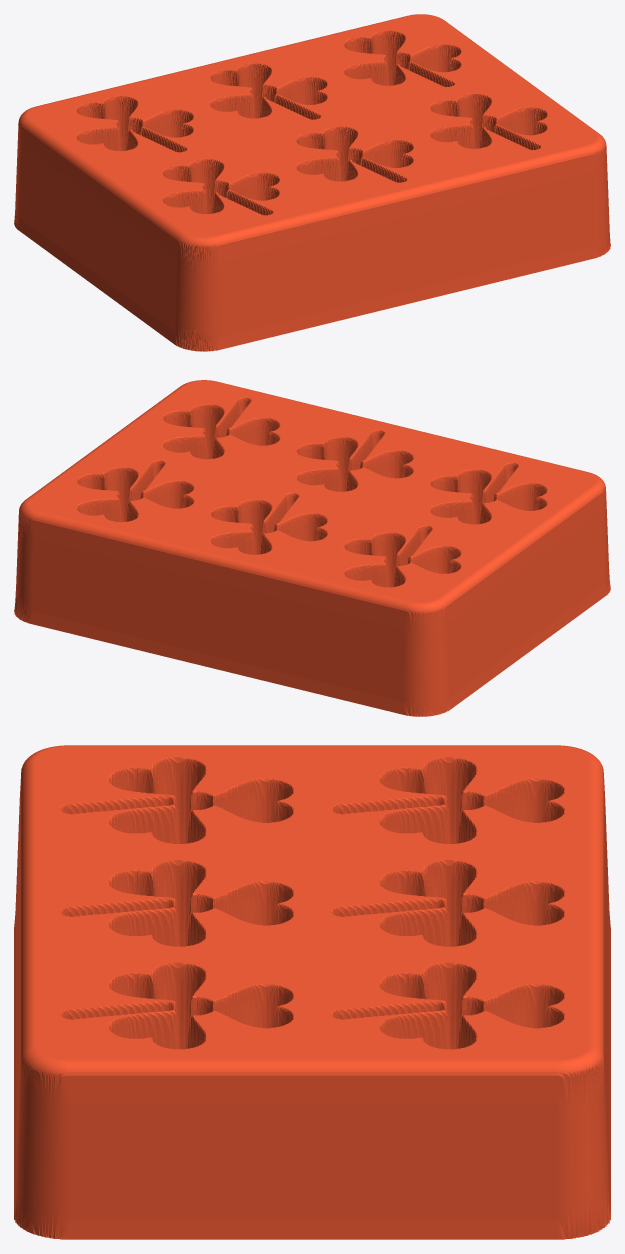
File: mold.glb
3 views of the same model, one above another, from view 1: azimuth 30°, elevation 25°; view 2: azimuth 150°, elevation 25°; view 3: azimuth 270°, elevation 25° (orthographic). The views are drawn at different scales.
Parts seen in each view (by area): view 1: geometry_0; view 2: geometry_0; view 3: geometry_0.
Boxes of the visible parts, <box> form: geometry_0: <box>14,14,610,351</box>; geometry_0: <box>14,380,610,716</box>; geometry_0: <box>14,745,610,1239</box>.
Size of the model in its own units: 0.1308 by 0.0314 by 0.0996.
